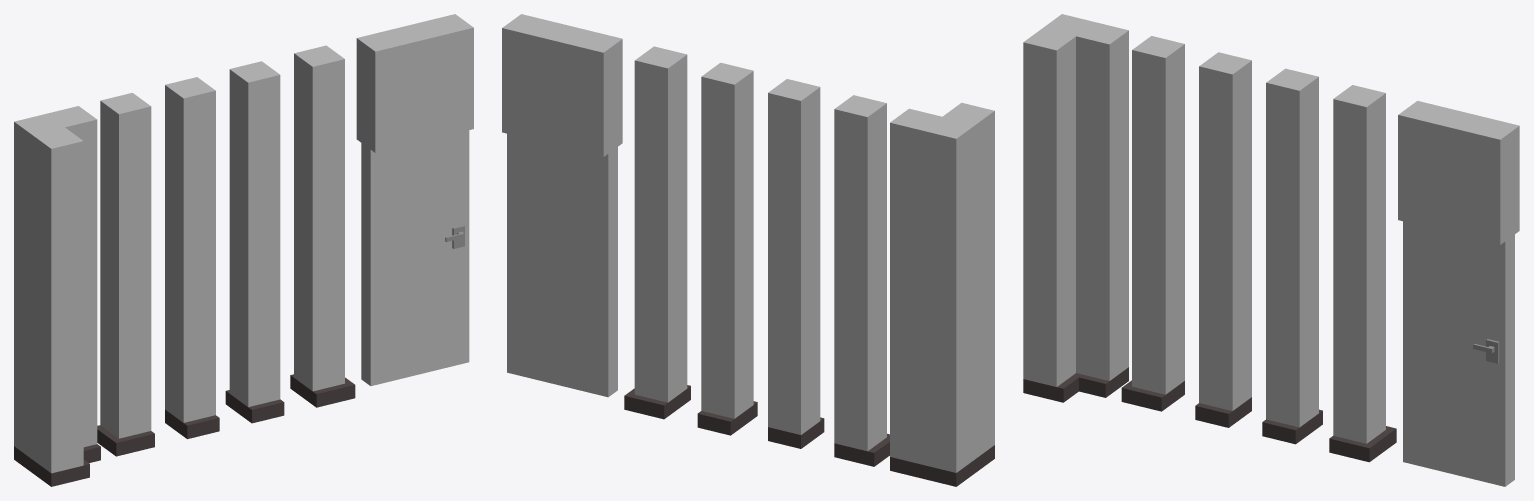
The model's file is cenarioEscritorio.fbx.
3 views of the same model, side by side, from view 1: azimuth 30°, elevation 25°; view 2: azimuth 150°, elevation 25°; view 3: azimuth 330°, elevation 25° (orthographic). The views are drawn at different scales.
Parts seen in each view (by area): view 1: ParedeEscritorio_junta, PortaEscritorio, ParedeEscritorio_curva, ParedeEscritorio_bilateral, ParedeEscritorio_ponta, ParedeEscritorio_unilateral, ParedeEscritorio_cima_porta; view 2: ParedeEscritorio_junta, PortaEscritorio, ParedeEscritorio_ponta, ParedeEscritorio_bilateral, ParedeEscritorio_curva, ParedeEscritorio_unilateral, ParedeEscritorio_cima_porta; view 3: ParedeEscritorio_junta, PortaEscritorio, ParedeEscritorio_ponta, ParedeEscritorio_curva, ParedeEscritorio_bilateral, ParedeEscritorio_unilateral, ParedeEscritorio_cima_porta.
Part boxes in pixels (x1,y1,x2,y2): ParedeEscritorio_junta: (14, 106, 100, 486); PortaEscritorio: (361, 130, 469, 385); ParedeEscritorio_curva: (97, 93, 154, 456); ParedeEscritorio_bilateral: (225, 61, 284, 423); ParedeEscritorio_ponta: (290, 45, 355, 407); ParedeEscritorio_unilateral: (165, 77, 219, 439); ParedeEscritorio_cima_porta: (356, 14, 473, 152); ParedeEscritorio_junta: (890, 102, 994, 486); PortaEscritorio: (507, 133, 617, 397); ParedeEscritorio_ponta: (624, 46, 690, 419); ParedeEscritorio_bilateral: (697, 62, 757, 435); ParedeEscritorio_curva: (834, 95, 889, 466); ParedeEscritorio_unilateral: (768, 79, 824, 448); ParedeEscritorio_cima_porta: (502, 14, 622, 156); ParedeEscritorio_junta: (1023, 14, 1128, 402); PortaEscritorio: (1403, 221, 1514, 486); ParedeEscritorio_ponta: (1329, 85, 1396, 462); ParedeEscritorio_curva: (1121, 36, 1184, 411); ParedeEscritorio_bilateral: (1262, 68, 1322, 444); ParedeEscritorio_unilateral: (1195, 52, 1251, 427); ParedeEscritorio_cima_porta: (1398, 100, 1519, 244).
Size of the model in its own units: 1366 by 1000 by 220.
